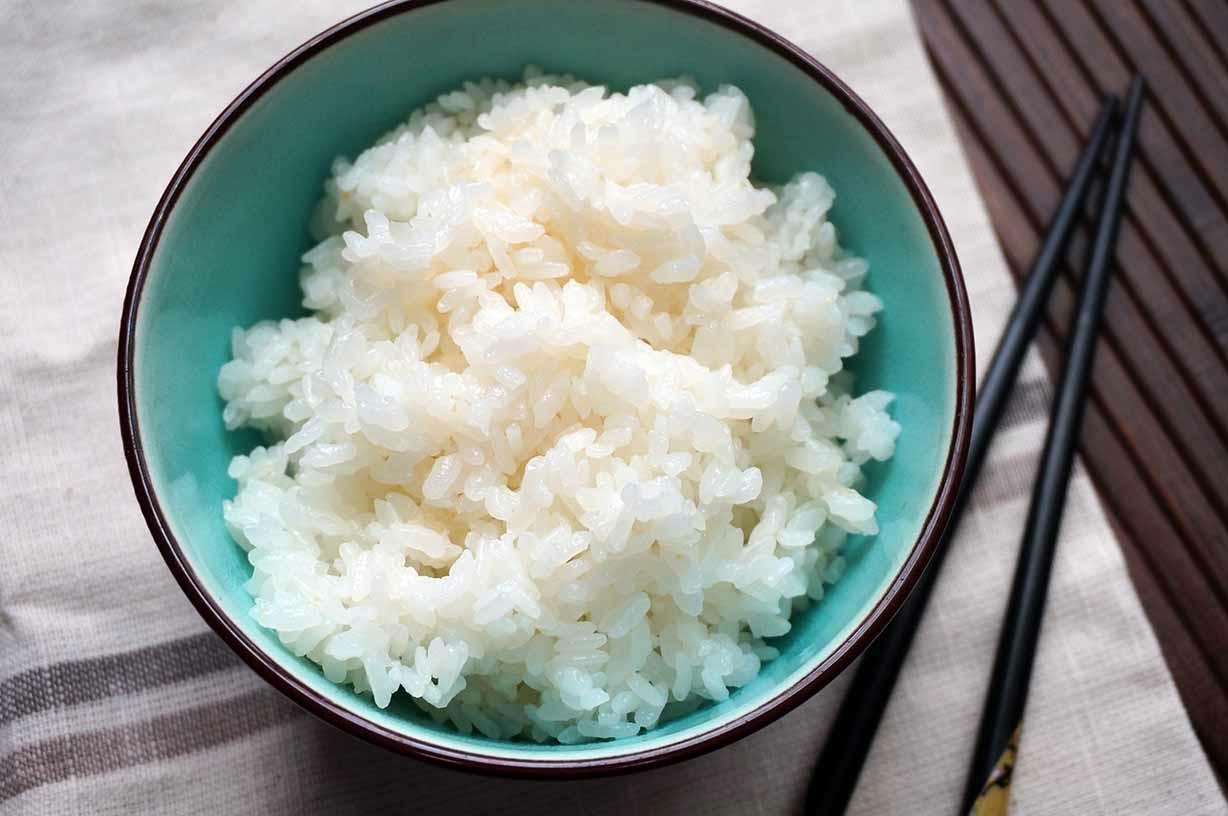WhiteRice: (217, 63, 901, 748)
